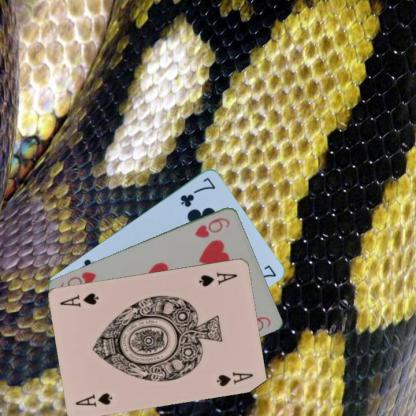6h: (192, 214, 231, 239)
7c: (177, 174, 217, 208)
As: (196, 269, 238, 288), (73, 390, 114, 407)
